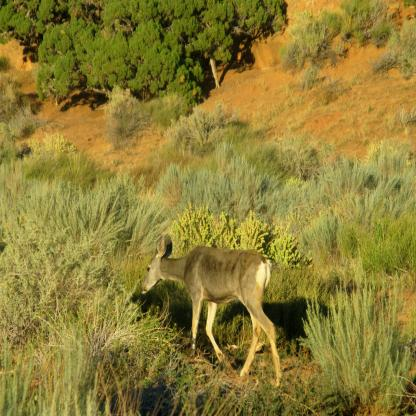Deer: (137, 233, 283, 391)
